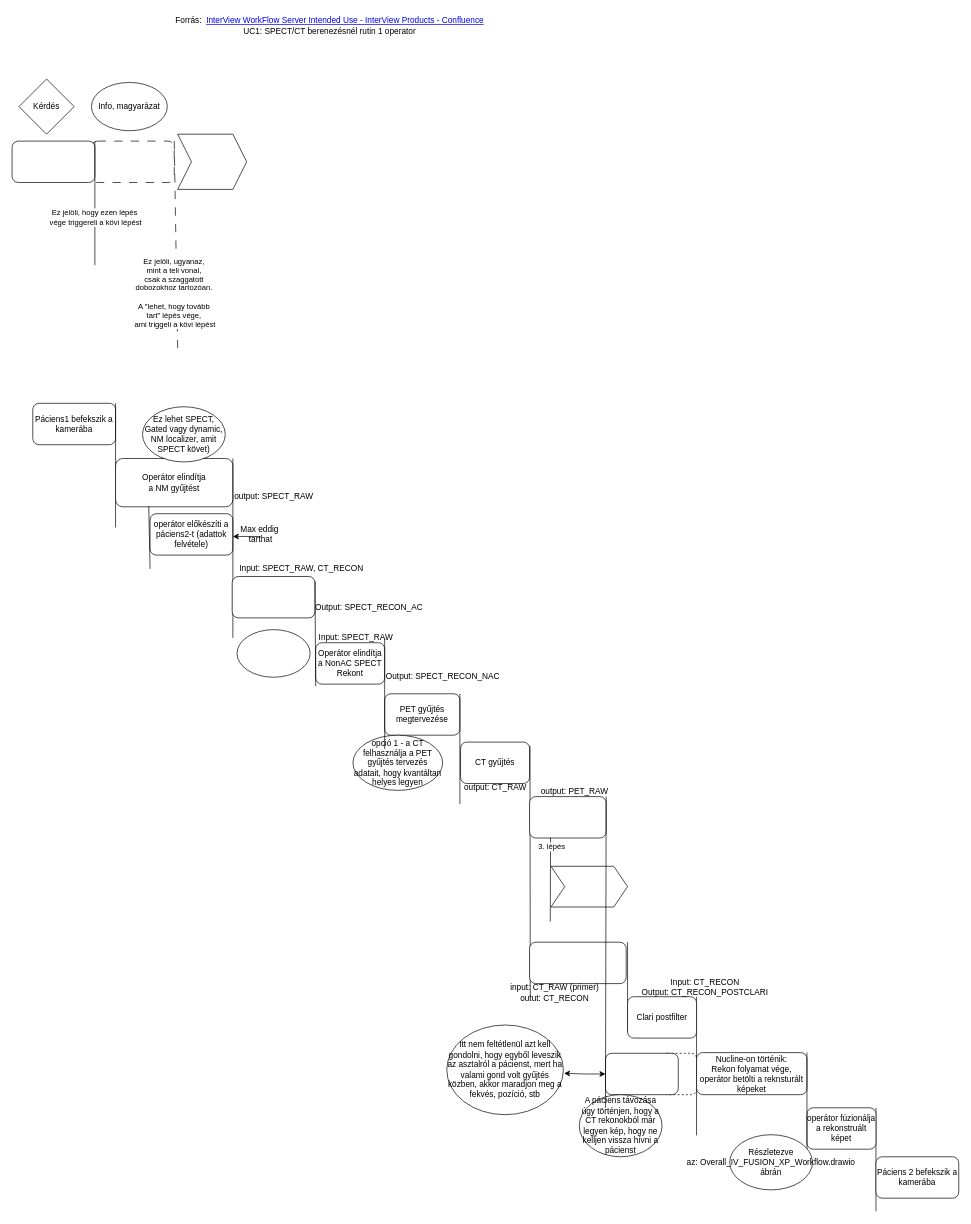
Image size: 971x1224. Some labels were removed from this diagram. The box of each missing label's shape, as (x1, y1, x2, y2) in pixels:
A lépés lehet, hogy tovább tart: (91, 140, 174, 183)
Automatiokusan induló lépés: (177, 134, 247, 189)
CT rekon: (529, 942, 626, 984)
Ehhez MINDIG kell a CT rekon (mindegy, hogy syntetic, vagy igazi): (236, 629, 310, 677)
Lépés: (11, 140, 95, 183)
Operátor elindítja az AC SPECT rekont: (231, 576, 315, 618)
PET gyűjtés (több lépésben): (529, 796, 606, 838)
PET rekon: (550, 866, 628, 907)
Páciens 1 távozik az ágyról, öltözik, vár, stb: (605, 1053, 678, 1095)
